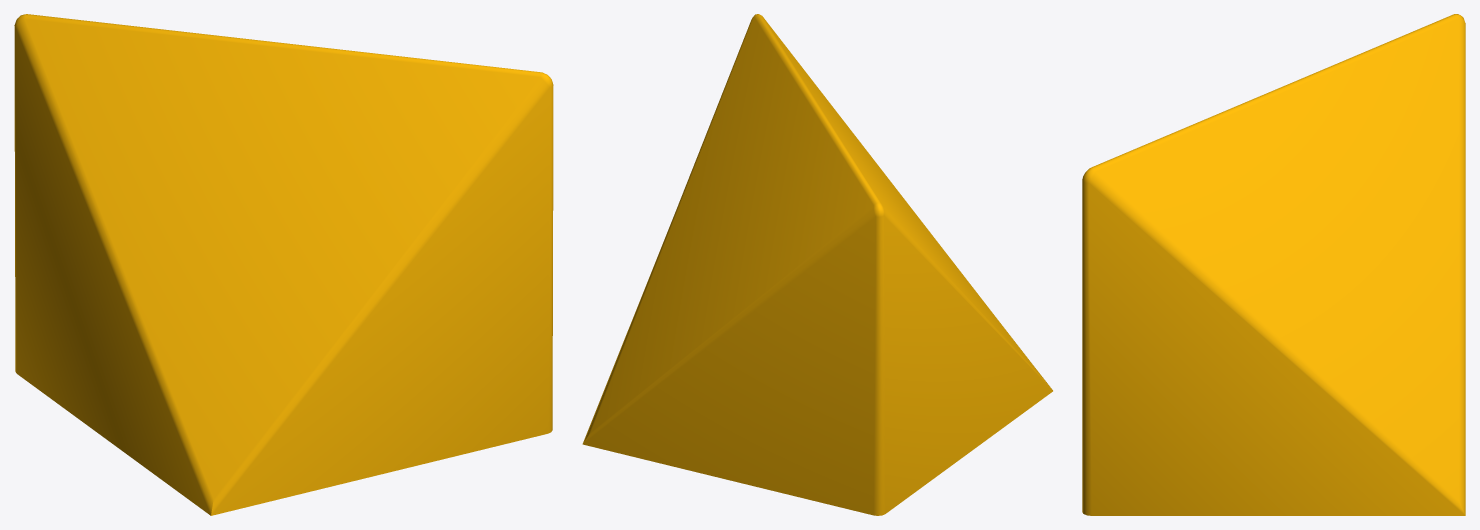
File: Diagonal_Ramp.fbx
3 renders of one model, left to right at view 1: azimuth 30°, elevation 25°; view 2: azimuth 150°, elevation 25°; view 3: azimuth 270°, elevation 25°, orthographic. The views are drawn at different scales.
Parts seen in each view (by area): view 1: Diagonal_Ramp; view 2: Diagonal_Ramp; view 3: Diagonal_Ramp.
Part boxes in pixels (x1,y1,x2,y2): Diagonal_Ramp: (14,14,553,515); Diagonal_Ramp: (582,14,1052,515); Diagonal_Ramp: (1082,14,1465,515).
Bounding box in the file's own units: 1 × 0.9884 × 1.
